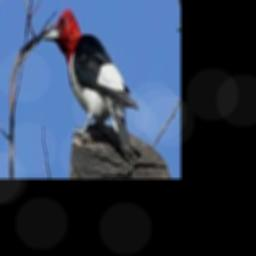Woodpecker: (43, 9, 138, 159)
